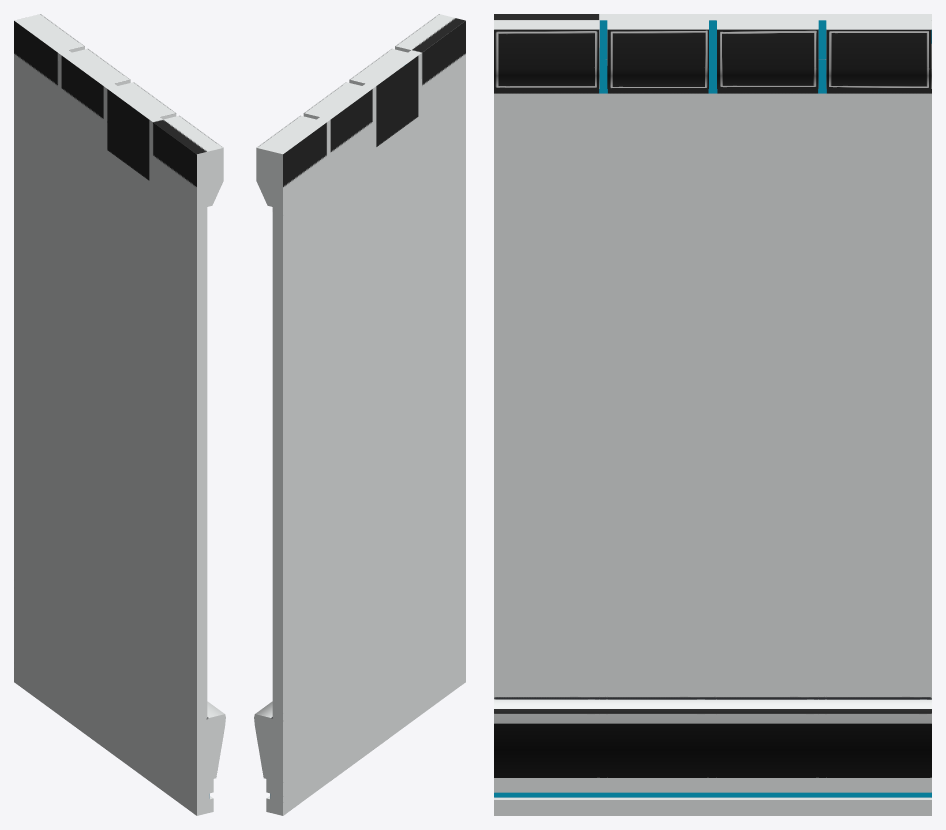
Rendered from SM_Wall2_12M.fbx.
3 views of the same model, side by side, from view 1: azimuth 30°, elevation 25°; view 2: azimuth 150°, elevation 25°; view 3: azimuth 270°, elevation 25° (orthographic). The views are drawn at different scales.
Visible parts, largest first — view 1: wall2.003; view 2: wall2.003; view 3: wall2.003.
Part boxes in pixels (<box>): wall2.003: <box>14,14,225,815</box>; wall2.003: <box>254,14,465,815</box>; wall2.003: <box>494,14,931,815</box>.
Size of the model in its own units: 55.14 by 1198 by 600.
